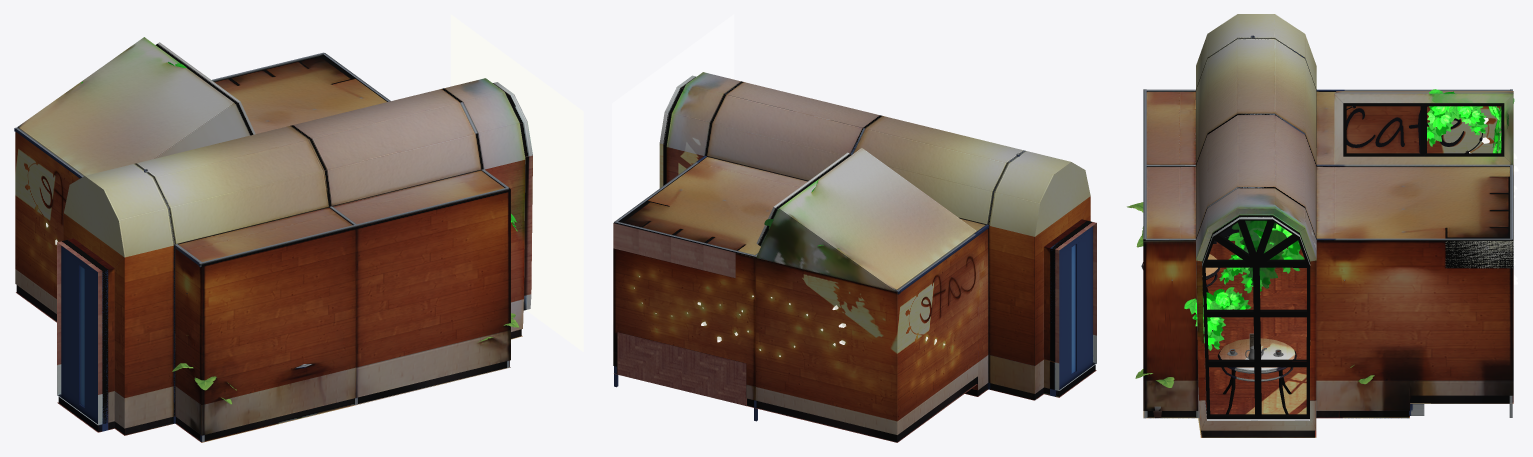
Rendered from cafeteria.glb.
3 views of the same model, side by side, from view 1: azimuth 30°, elevation 25°; view 2: azimuth 150°, elevation 25°; view 3: azimuth 270°, elevation 25° (orthographic). The views are drawn at different scales.
Visible parts, largest first — view 1: Building.002_14_31, Background_12_27, NoBakeStatic_15_33; view 2: Building.002_14_31, Background_12_27; view 3: Building.002_14_31, NoBakeStatic_15_33, Board.002_13_29.
Boxes of the visible parts, x1,y1,x2,y2 form: Building.002_14_31: [14, 37, 532, 442]; Background_12_27: [451, 15, 583, 351]; NoBakeStatic_15_33: [46, 62, 518, 404]; Building.002_14_31: [613, 72, 1096, 442]; Background_12_27: [612, 14, 733, 324]; Building.002_14_31: [1143, 14, 1513, 437]; NoBakeStatic_15_33: [1127, 89, 1518, 417]; Board.002_13_29: [1141, 35, 1344, 414].
Bounding box in the file's own units: 6.26 × 3.37 × 4.88.
10 materials, 9 textured.
